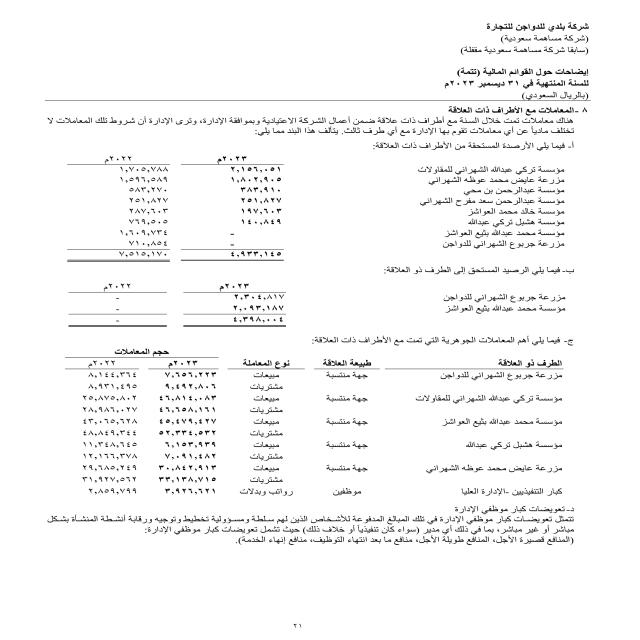notes: (450, 67, 597, 78)
table: (41, 346, 584, 503), (46, 154, 302, 262), (42, 274, 298, 331)
